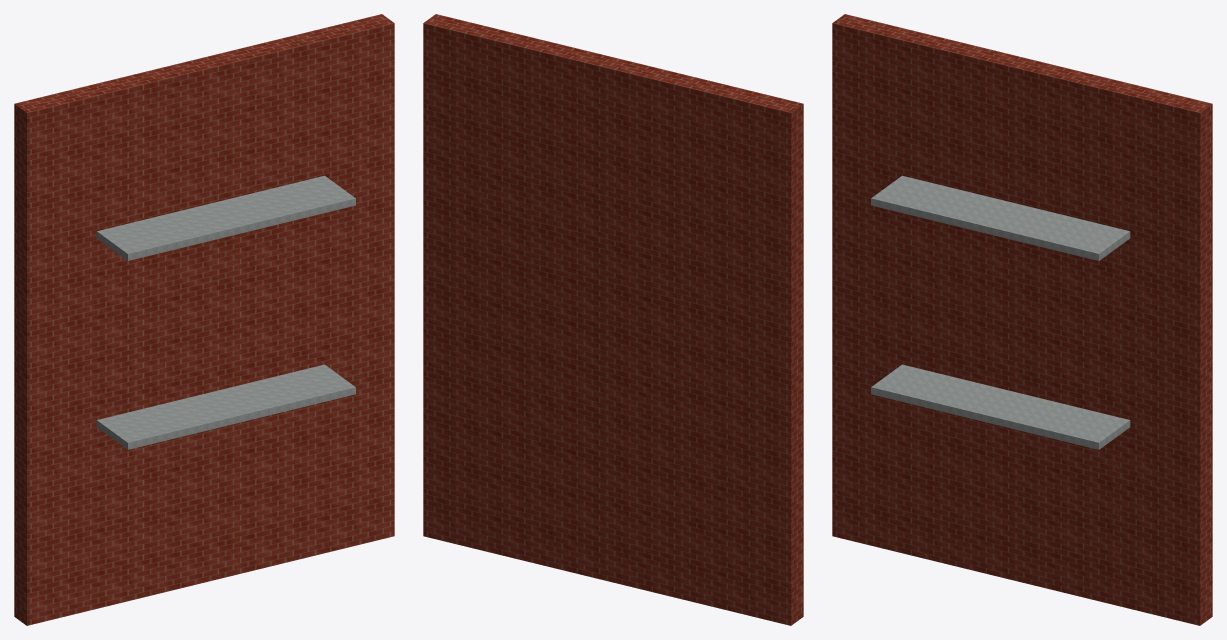
File: facade-fire-escape.lod2.gltf
3 renders of one model, left to right at view 1: azimuth 30°, elevation 25°; view 2: azimuth 150°, elevation 25°; view 3: azimuth 330°, elevation 25°, orthographic.
Visible parts, largest first — view 1: facade-fire-escape; view 2: facade-fire-escape; view 3: facade-fire-escape.
Part boxes in pixels (x1,y1,x2,y2): facade-fire-escape: [14, 14, 394, 625]; facade-fire-escape: [423, 14, 803, 625]; facade-fire-escape: [832, 14, 1212, 625].
Bounding box in the file's own units: 5.4 × 7.2 × 1.11.
Materials: 2 (2 with a texture image).
